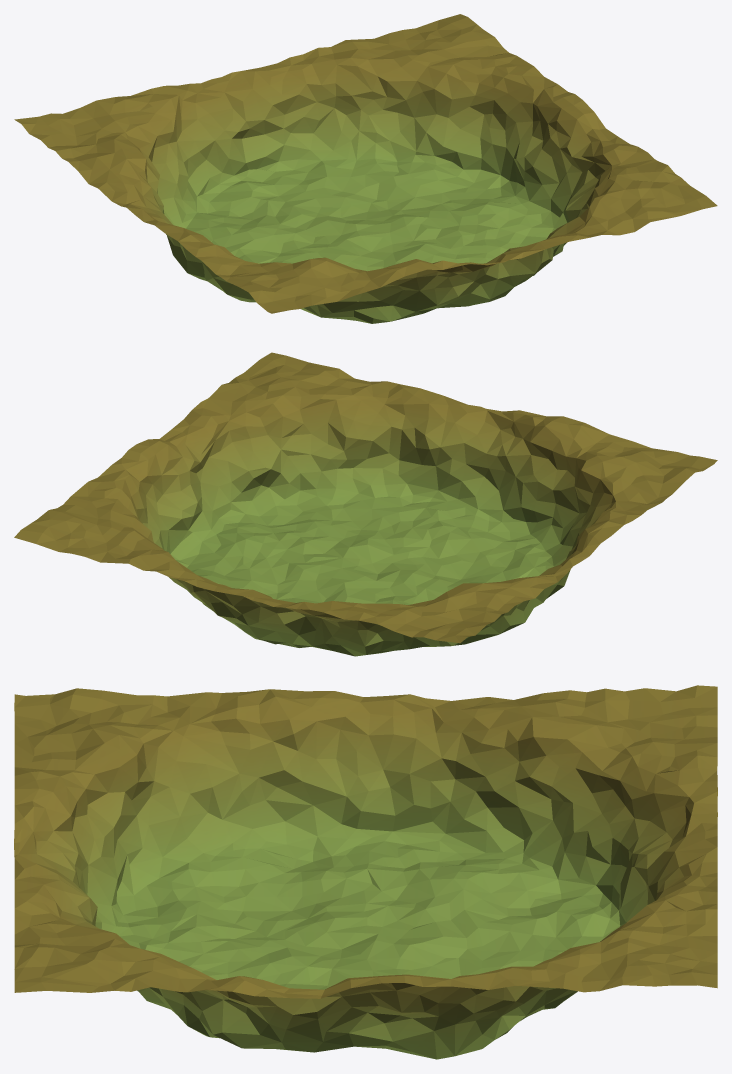
The model's file is Stage.fbx.
3 renders of one model, top to bottom at view 1: azimuth 30°, elevation 25°; view 2: azimuth 150°, elevation 25°; view 3: azimuth 270°, elevation 25°, orthographic. The views are drawn at different scales.
Visible parts, largest first — view 1: Pond; view 2: Pond; view 3: Pond.
Part boxes in pixels (left/top/right/bottom): Pond: left=14, top=14, right=717, bottom=323; Pond: left=14, top=352, right=717, bottom=656; Pond: left=14, top=685, right=717, bottom=1059.
Size of the model in its own units: 14.52 by 2.83 by 14.52.
